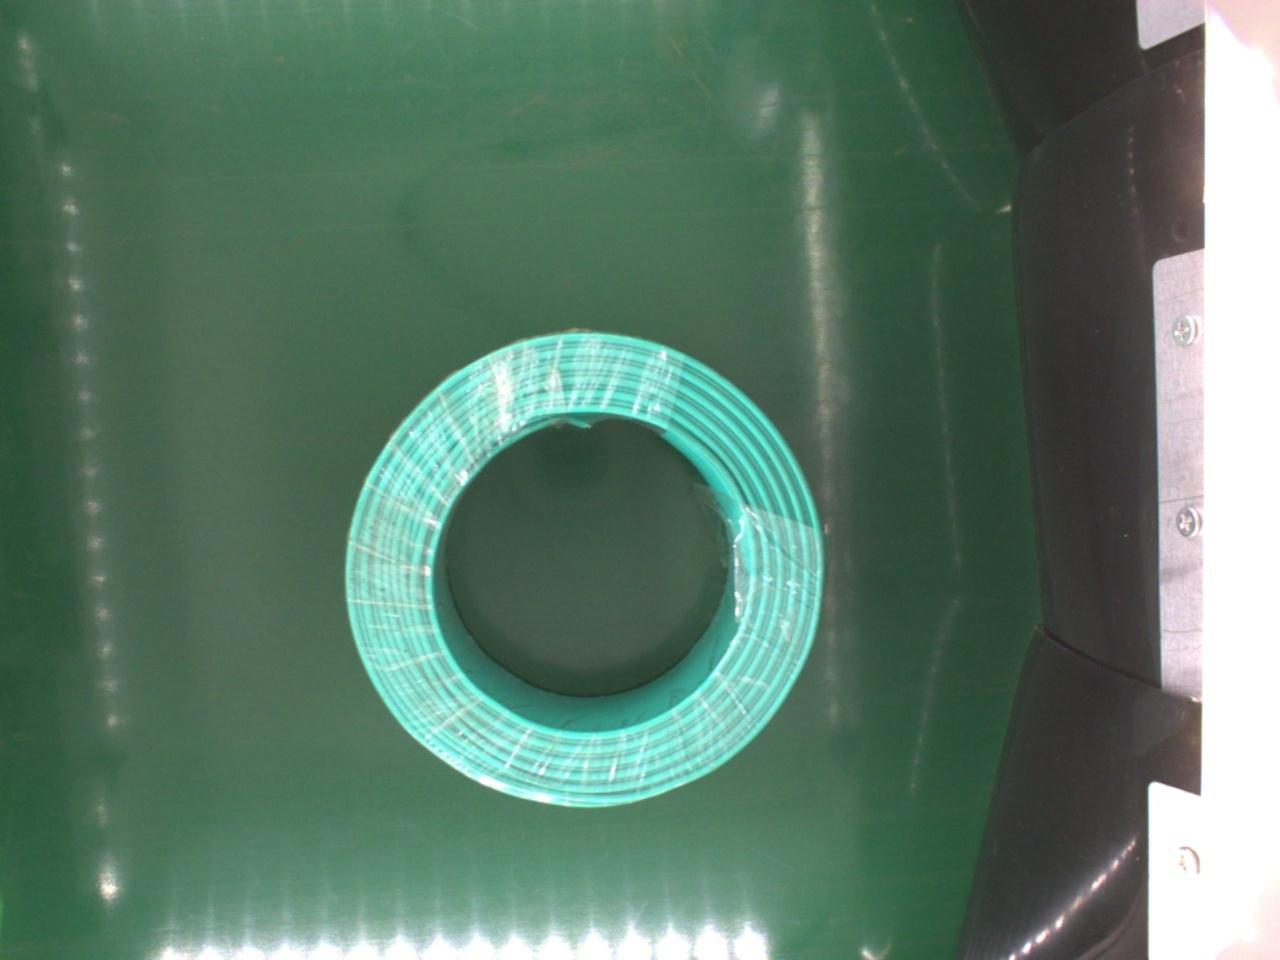green: (336, 330, 826, 812)
